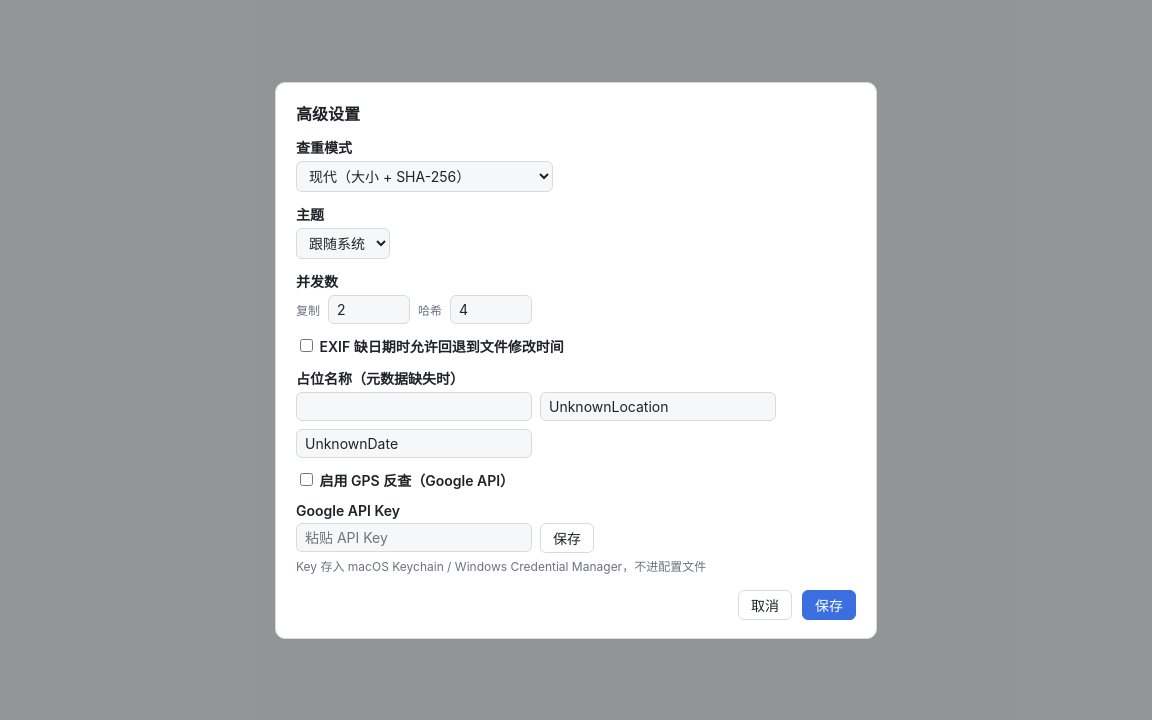
Test: SettingsDialog › 占位名称为空时拒绝保存
Click the 2nd button "保存" at (829, 604), box [802,590,856,620]
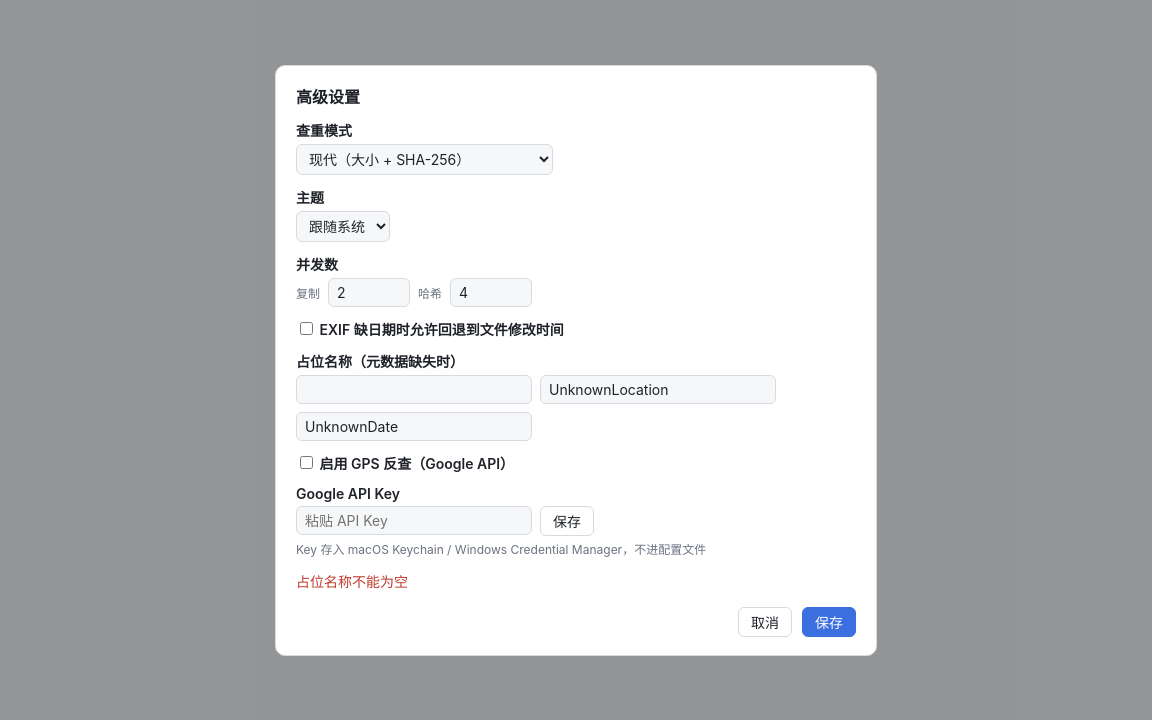
Expected: the text "占位名称不能为空" is shown, [296,572,408,590]
